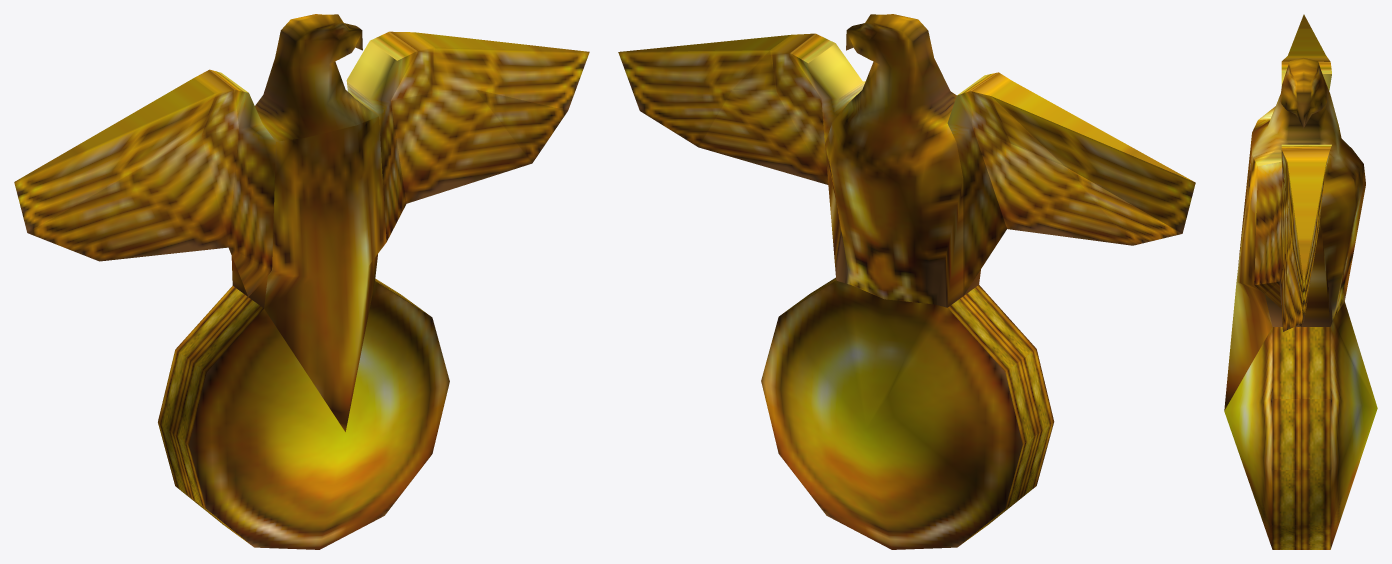
The model's file is copy.ico.obj.
The picture shows the model from 3 angles, left to right: view 1: azimuth 30°, elevation 25°; view 2: azimuth 150°, elevation 25°; view 3: azimuth 270°, elevation 25°; orthographic projection. The views are drawn at different scales.
Size of the model in its own units: 5 by 4.29 by 1.25.
1 material, 1 textured.
